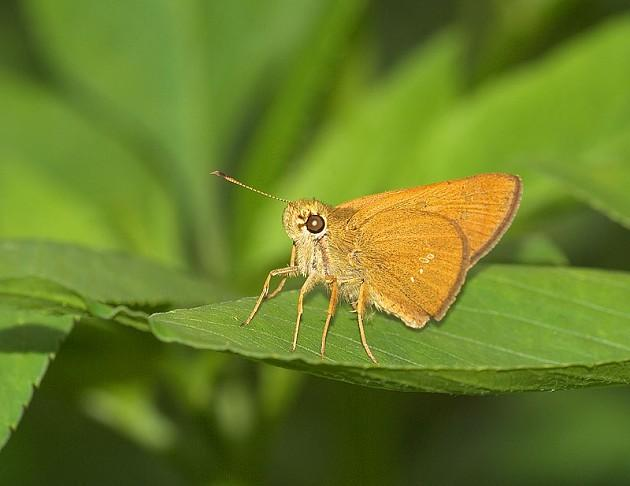Hesperiidae: (206, 164, 530, 346)
